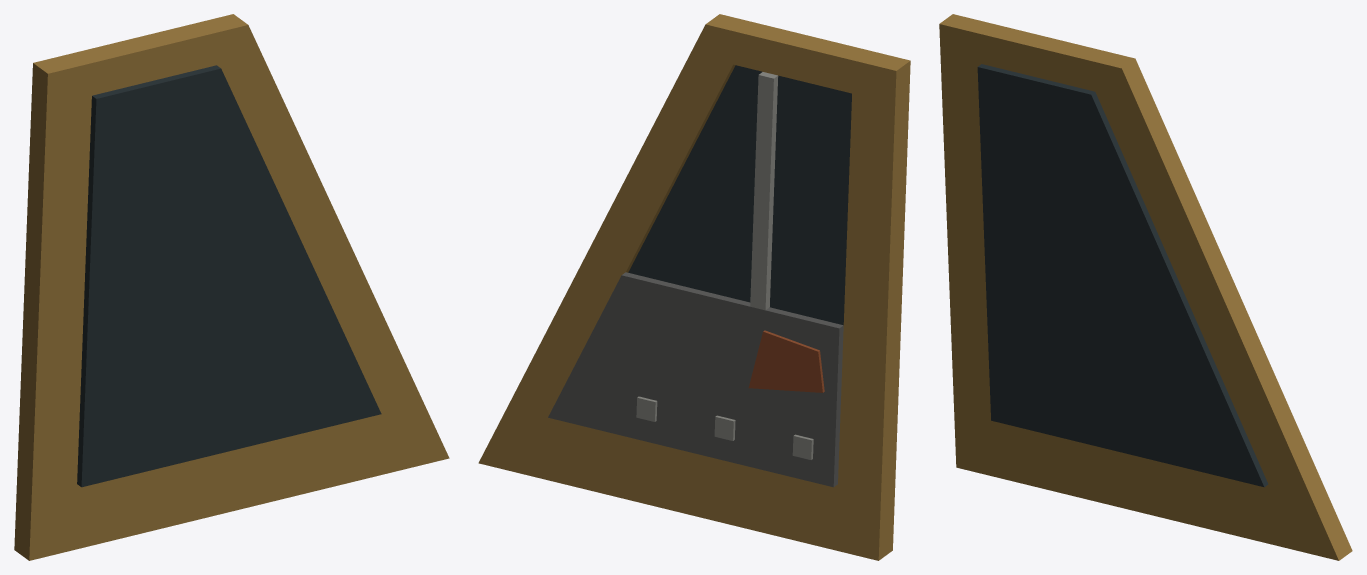
Rendered from cab_side_front.glb.
3 renders of one model, left to right at view 1: azimuth 30°, elevation 25°; view 2: azimuth 150°, elevation 25°; view 3: azimuth 330°, elevation 25°, orthographic. The views are drawn at different scales.
Visible parts, largest first — view 1: cab_side_front; view 2: cab_side_front; view 3: cab_side_front.
Part boxes in pixels (<box>): cab_side_front: <box>14,14,449,560</box>; cab_side_front: <box>478,14,910,560</box>; cab_side_front: <box>939,14,1352,560</box>.
Size of the model in its own units: 0.65 by 0.74 by 0.1065.
